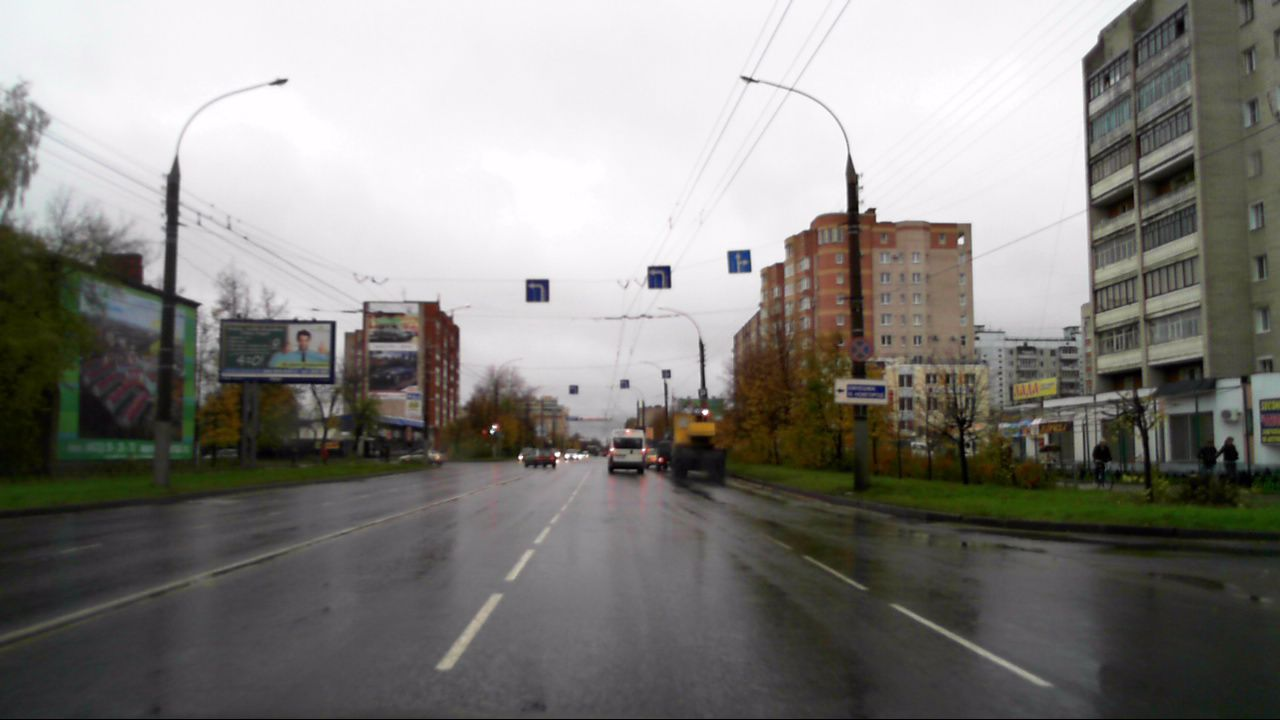No Parking: (848, 339, 874, 363)
